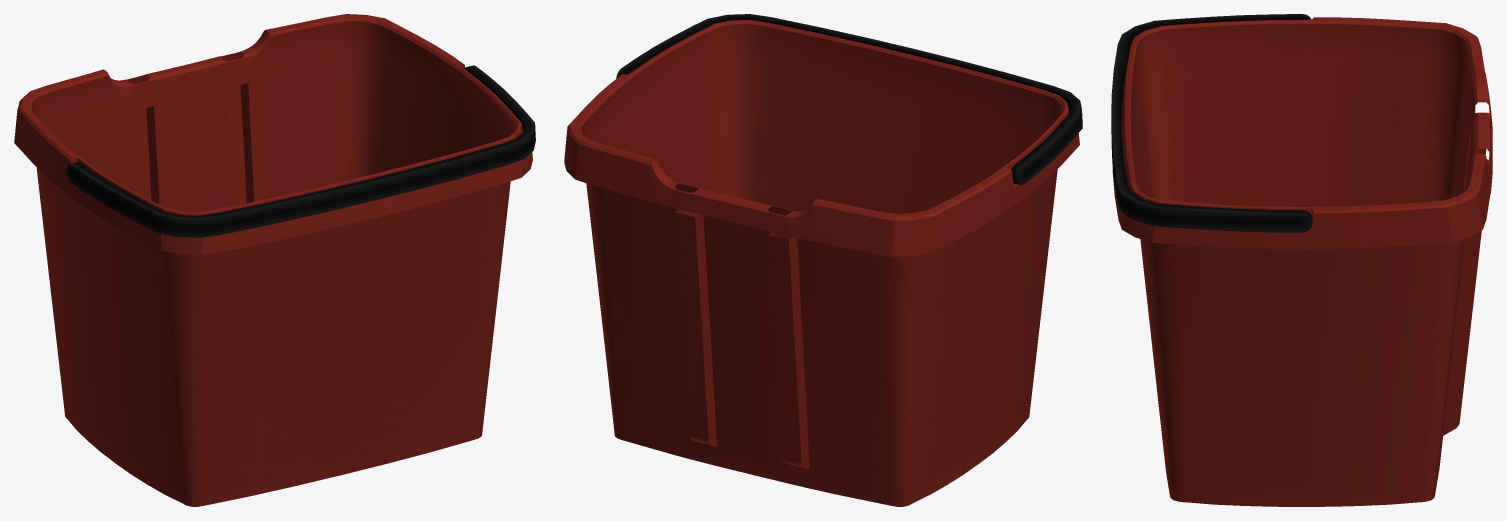
The model's file is redbasket.fbx.
The picture shows the model from 3 angles, left to right: view 1: azimuth 30°, elevation 25°; view 2: azimuth 150°, elevation 25°; view 3: azimuth 270°, elevation 25°; orthographic projection. The views are drawn at different scales.
Visible parts, largest first — view 1: BASE, ANSSE; view 2: BASE, ANSSE; view 3: BASE, ANSSE.
Boxes of the visible parts, x1,y1,x2,y2 form: BASE: (14,14,532,506); ANSSE: (66,65,535,237); BASE: (564,19,1079,506); ANSSE: (616,14,1082,185); BASE: (1112,17,1492,506); ANSSE: (1111,14,1312,232).
Size of the model in its own units: 57.27 by 42.45 by 46.07.
